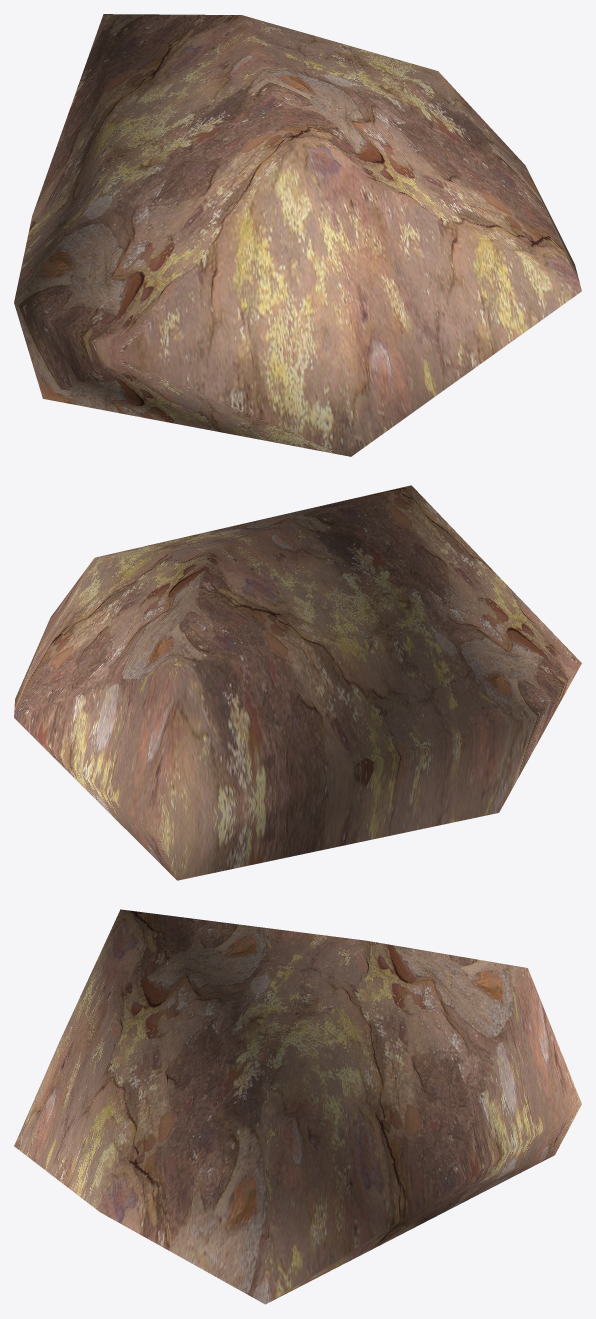
File: boulder3.fbx
3 renders of one model, top to bottom at view 1: azimuth 30°, elevation 25°; view 2: azimuth 150°, elevation 25°; view 3: azimuth 270°, elevation 25°, orthographic. The views are drawn at different scales.
Parts seen in each view (by area): view 1: boulder3; view 2: boulder3; view 3: boulder3.
Boxes of the visible parts, x1,y1,x2,y2 form: boulder3: (14, 14, 581, 456); boulder3: (14, 485, 581, 880); boulder3: (14, 909, 581, 1304).
Size of the model in its own units: 30480 by 14000 by 29510.
